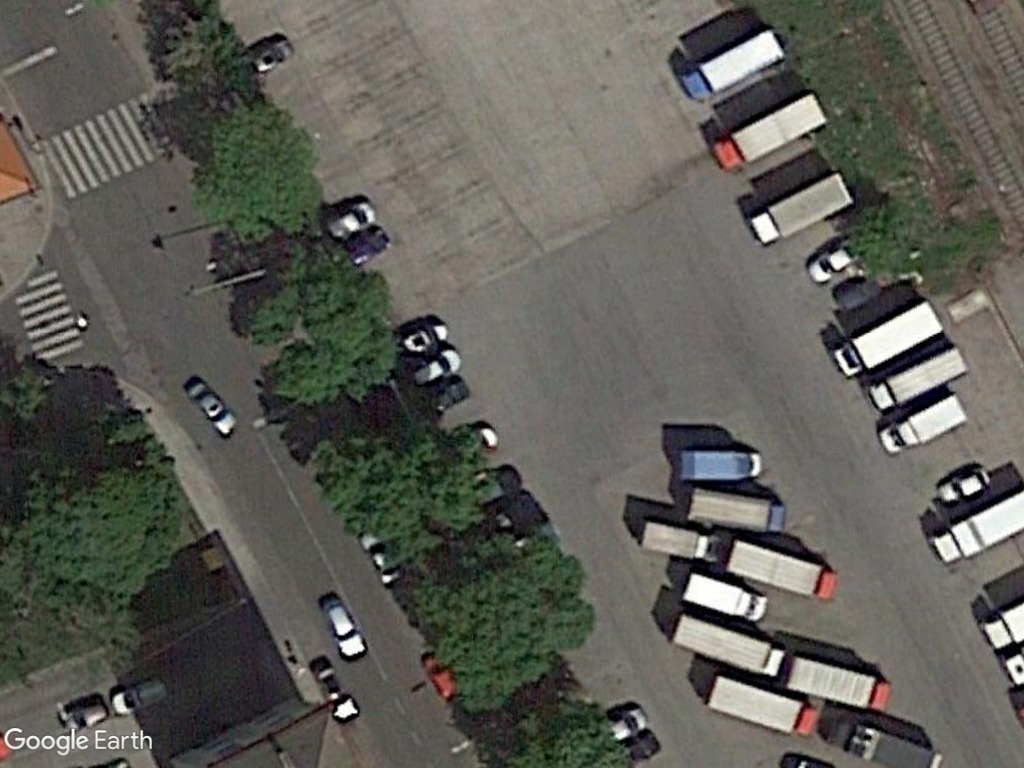car: (314, 589, 369, 666), (182, 373, 242, 441), (931, 462, 994, 507)
truck: (704, 85, 832, 181), (742, 165, 860, 255), (826, 294, 945, 381), (663, 604, 789, 685), (678, 21, 790, 107), (721, 536, 840, 608), (700, 670, 819, 741), (784, 652, 897, 715), (868, 389, 973, 453), (678, 485, 797, 541), (677, 566, 770, 625), (633, 514, 729, 566)
van: (863, 341, 971, 414), (674, 443, 773, 488)
